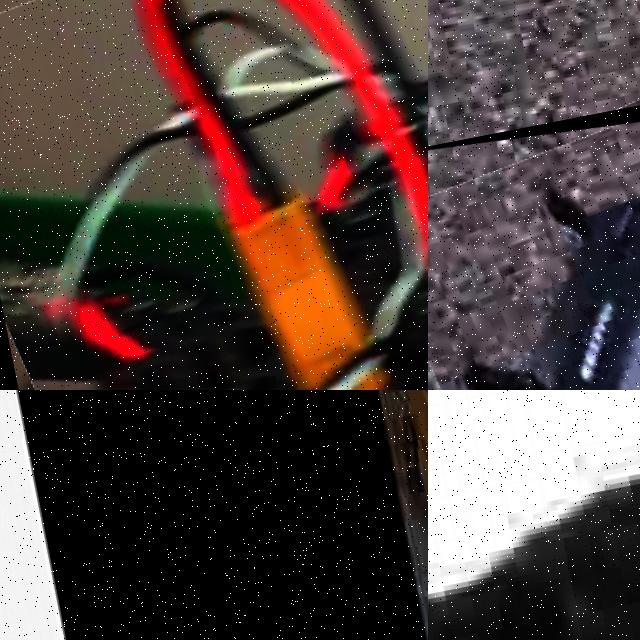0: (428, 86, 640, 390)
drone: (0, 0, 428, 390)
